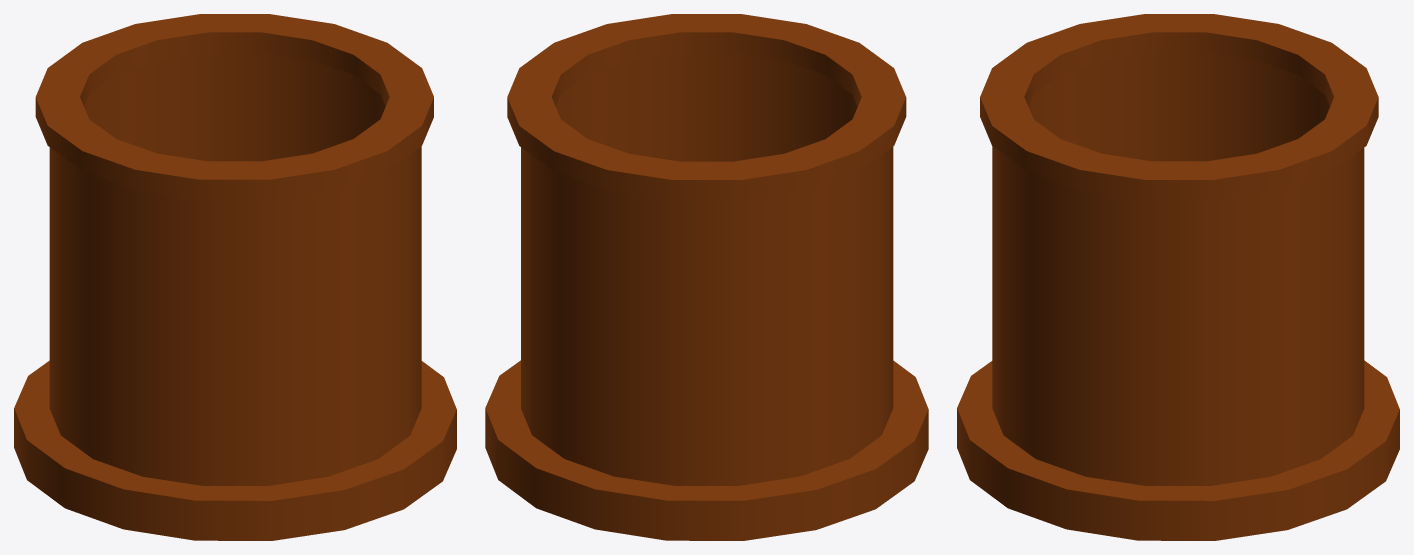
Rendered from well.fbx.
3 views of the same model, side by side, from view 1: azimuth 30°, elevation 25°; view 2: azimuth 150°, elevation 25°; view 3: azimuth 270°, elevation 25° (orthographic).
Visible parts, largest first — view 1: Tube001; view 2: Tube001; view 3: Tube001.
Boxes of the visible parts, box(x1,y1,x2,y2) form: Tube001: box(14, 14, 456, 540); Tube001: box(485, 14, 928, 540); Tube001: box(957, 14, 1399, 540).
Bounding box in the file's own units: 98.6 × 87.63 × 100.
